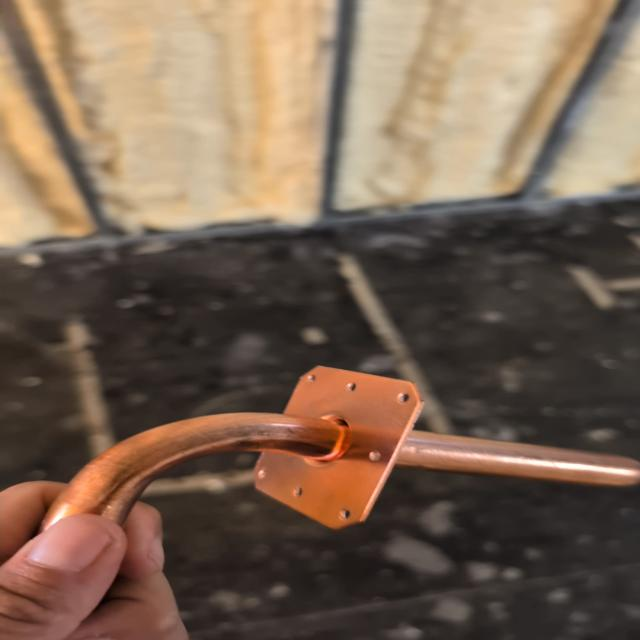wall_flange: (23, 361, 640, 559)
